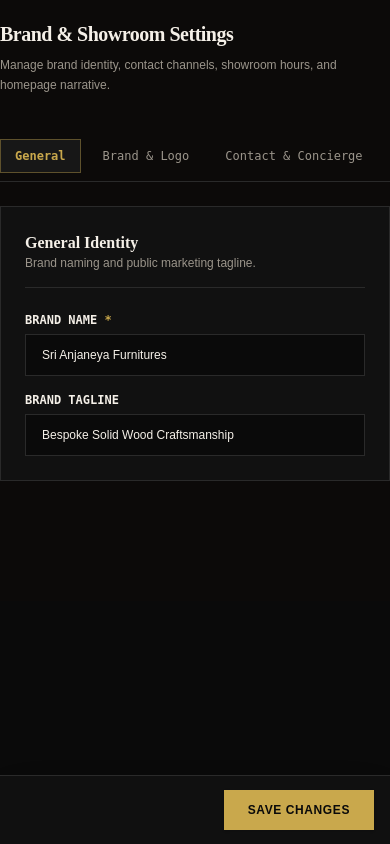
Test case: AdminSettingsPage Component › switches active category when category navigation item is clicked
This screenshot has width=390, height=844.
Click the button "Contact & Concierge" at (294, 156), box [211, 140, 377, 172]
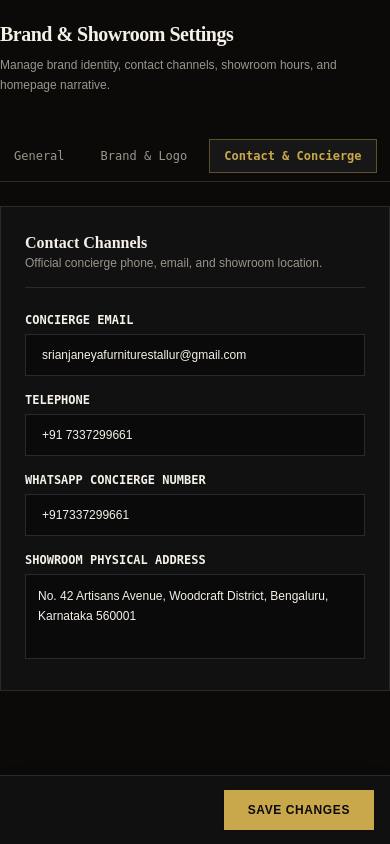
Result: the heading "Contact Channels" is shown at [25, 234, 147, 251]
Result: the field showing "srianjaneyafurniturestallur@gmail.com" below "Concierge Email" is shown at [25, 334, 365, 376]
Result: the field showing "+91 7337299661" below "Telephone" is shown at [25, 414, 365, 456]
